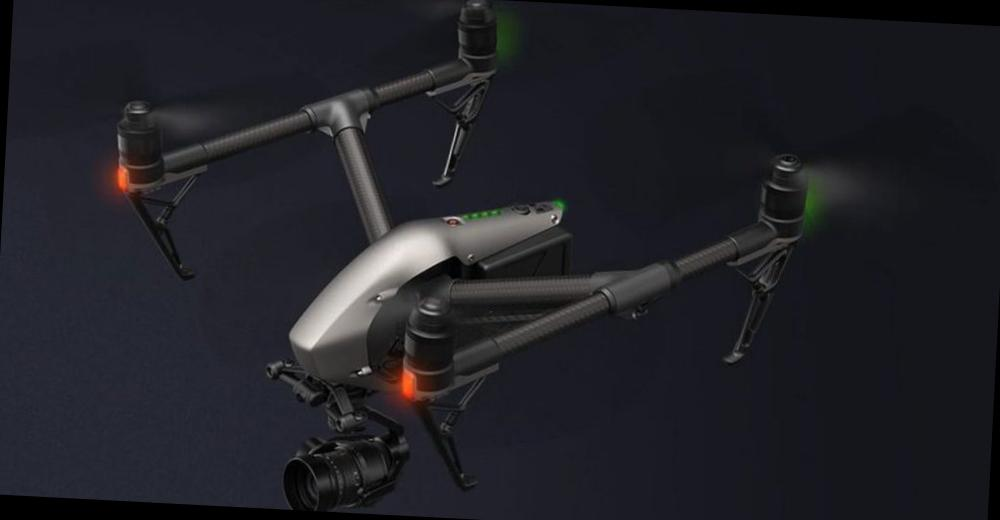drone: (59, 19, 946, 478)
